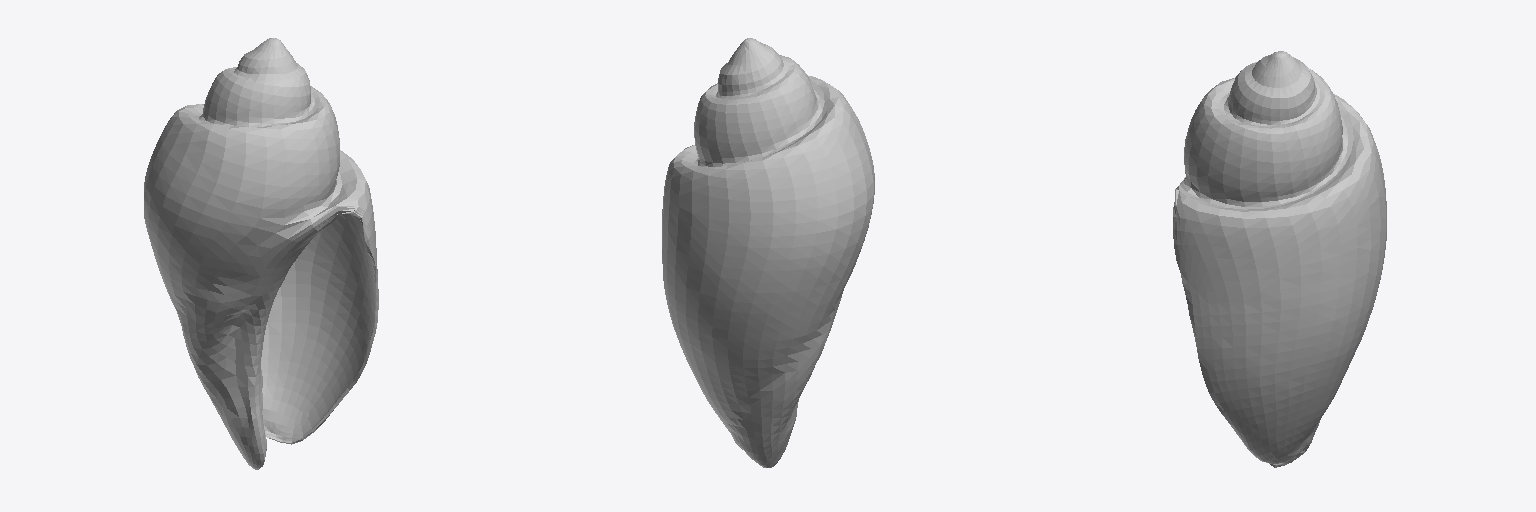
File: JunoniaShell.obj
3 renders of one model, left to right at view 1: azimuth 30°, elevation 25°; view 2: azimuth 150°, elevation 25°; view 3: azimuth 270°, elevation 25°, orthographic.
Parts seen in each view (by area): view 1: OBJ_JunoniaShell; view 2: OBJ_JunoniaShell; view 3: OBJ_JunoniaShell.
Boxes of the visible parts, x1,y1,x2,y2 form: OBJ_JunoniaShell: [144, 38, 378, 469]; OBJ_JunoniaShell: [662, 38, 874, 467]; OBJ_JunoniaShell: [1173, 51, 1386, 467].
Bounding box in the file's own units: 0.0489 × 0.1026 × 0.0469.